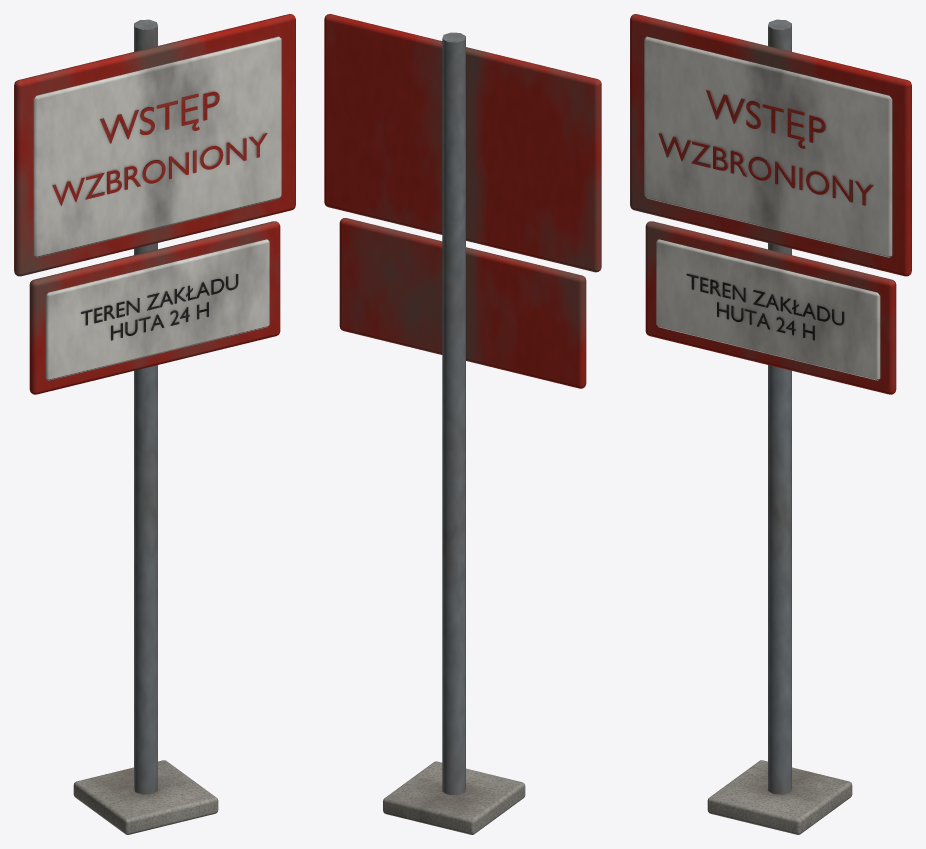
The model's file is huta_tablica.glb.
3 views of the same model, side by side, from view 1: azimuth 30°, elevation 25°; view 2: azimuth 150°, elevation 25°; view 3: azimuth 330°, elevation 25° (orthographic).
Parts seen in each view (by area): view 1: Tablica, Napisy; view 2: Tablica; view 3: Tablica, Napisy.
Part boxes in pixels (x1,y1,x2,y2): Tablica: (14,14,295,834); Napisy: (52,91,267,340); Tablica: (324,14,601,834); Tablica: (630,14,911,834); Napisy: (658,90,873,340).
Bounding box in the file's own units: 0.9 × 2.4 × 0.3.
Materials: 2 (2 with a texture image).
